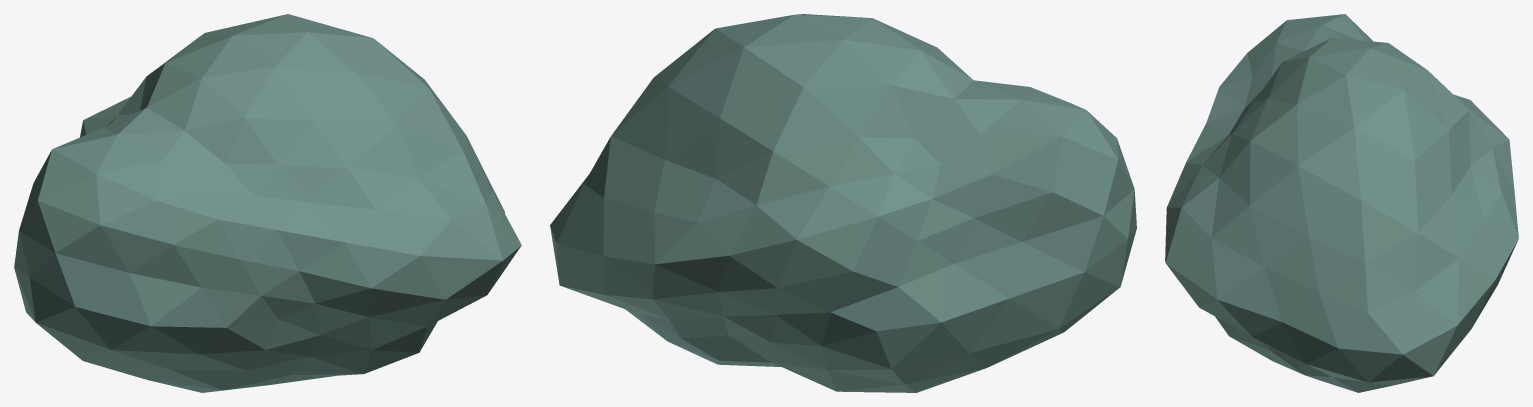
Rendered from reef_rock_a.glb.
3 views of the same model, side by side, from view 1: azimuth 30°, elevation 25°; view 2: azimuth 150°, elevation 25°; view 3: azimuth 270°, elevation 25° (orthographic). The views are drawn at different scales.
Parts seen in each view (by area): view 1: reef_rock_a; view 2: reef_rock_a; view 3: reef_rock_a.
Boxes of the visible parts, x1,y1,x2,y2 form: reef_rock_a: (14,14,521,392); reef_rock_a: (550,14,1136,392); reef_rock_a: (1165,14,1518,392).
Bounding box in the file's own units: 2 × 1.28 × 1.42.
